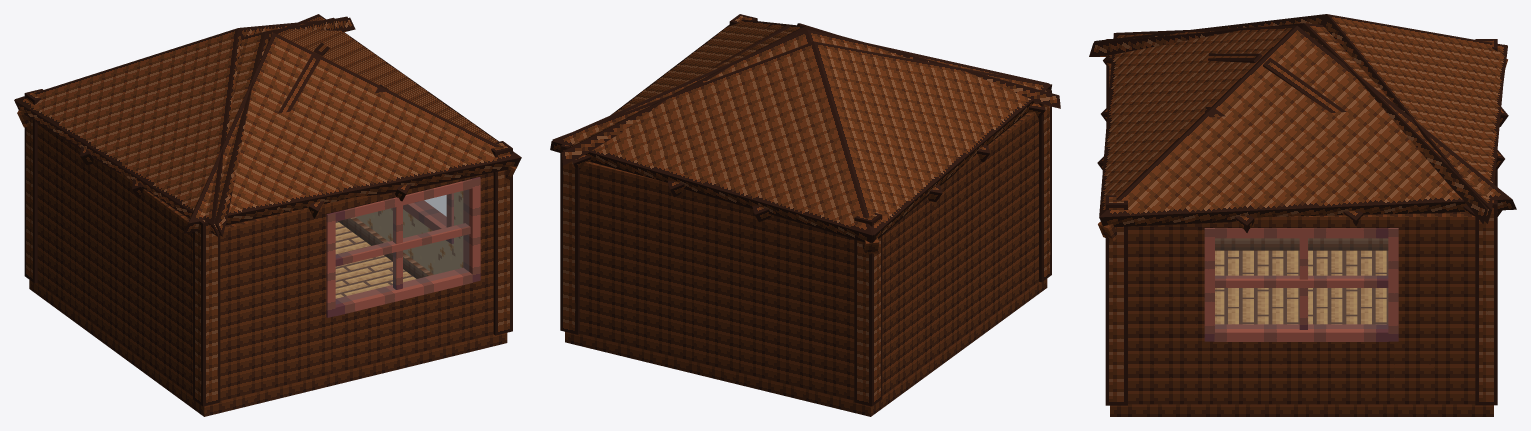
Rendered from inside01.glb.
3 renders of one model, left to right at view 1: azimuth 30°, elevation 25°; view 2: azimuth 150°, elevation 25°; view 3: azimuth 270°, elevation 25°, orthographic. The views are drawn at different scales.
Visible parts, largest first — view 1: ridge.001, wall_left.001, wall_left, roof_slope_l, win_f2_bar_v.002, floor, post_fl, ridge, post_fl.001, wall_left.002, post_bl, win_f2_bar_v.001 (+2 smaller); view 2: wall_back, wall_left, roof_slope_l~x, roof_slope_l, ridge, ridge.001, floor, post_bl, post_br, post_fl; view 3: ridge.001, wall_left.002, win_f2_bar_v.001, floor, roof_slope_l~x, ridge, post_br, post_fl.001, base_left, roof_slope_l.
Part boxes in pixels (x1=…): ridge.001: x1=183, y1=14, x2=521, y2=233; wall_left.001: x1=220, y1=172, x2=493, y2=400; wall_left: x1=37, y1=123, x2=192, y2=396; roof_slope_l: x1=14, y1=28, x2=242, y2=237; win_f2_bar_v.002: x1=326, y1=177, x2=480, y2=317; floor: x1=29, y1=221, x2=507, y2=416; post_fl: x1=193, y1=220, x2=220, y2=406; ridge: x1=14, y1=16, x2=347, y2=236; post_fl.001: x1=491, y1=141, x2=512, y2=335; wall_left.002: x1=355, y1=191, x2=463, y2=274; post_bl: x1=24, y1=89, x2=42, y2=283; win_f2_bar_v.001: x1=403, y1=193, x2=453, y2=244; wall_back: x1=579, y1=162, x2=854, y2=400; wall_left: x1=882, y1=112, x2=1038, y2=395; roof_slope_l~x: x1=552, y1=41, x2=872, y2=242; roof_slope_l: x1=814, y1=41, x2=1051, y2=242; ridge: x1=550, y1=29, x2=1049, y2=254; ridge.001: x1=561, y1=19, x2=1060, y2=165; floor: x1=565, y1=278, x2=1047, y2=416; post_bl: x1=854, y1=213, x2=882, y2=406; post_br: x1=560, y1=144, x2=579, y2=334; post_fl: x1=1038, y1=89, x2=1051, y2=282; ridge.001: x1=1097, y1=25, x2=1516, y2=241; wall_left.002: x1=1128, y1=212, x2=1475, y2=404; win_f2_bar_v.001: x1=1204, y1=228, x2=1398, y2=341; floor: x1=1110, y1=250, x2=1493, y2=416; roof_slope_l~x: x1=1323, y1=14, x2=1507, y2=223; ridge: x1=1089, y1=23, x2=1508, y2=223; post_br: x1=1475, y1=200, x2=1497, y2=405; post_fl.001: x1=1105, y1=195, x2=1127, y2=405; base_left: x1=1215, y1=238, x2=1388, y2=250; roof_slope_l: x1=1094, y1=14, x2=1326, y2=42.
Bounding box in the file's own units: 3.63 × 2.91 × 3.62.
13 materials, 12 textured.
